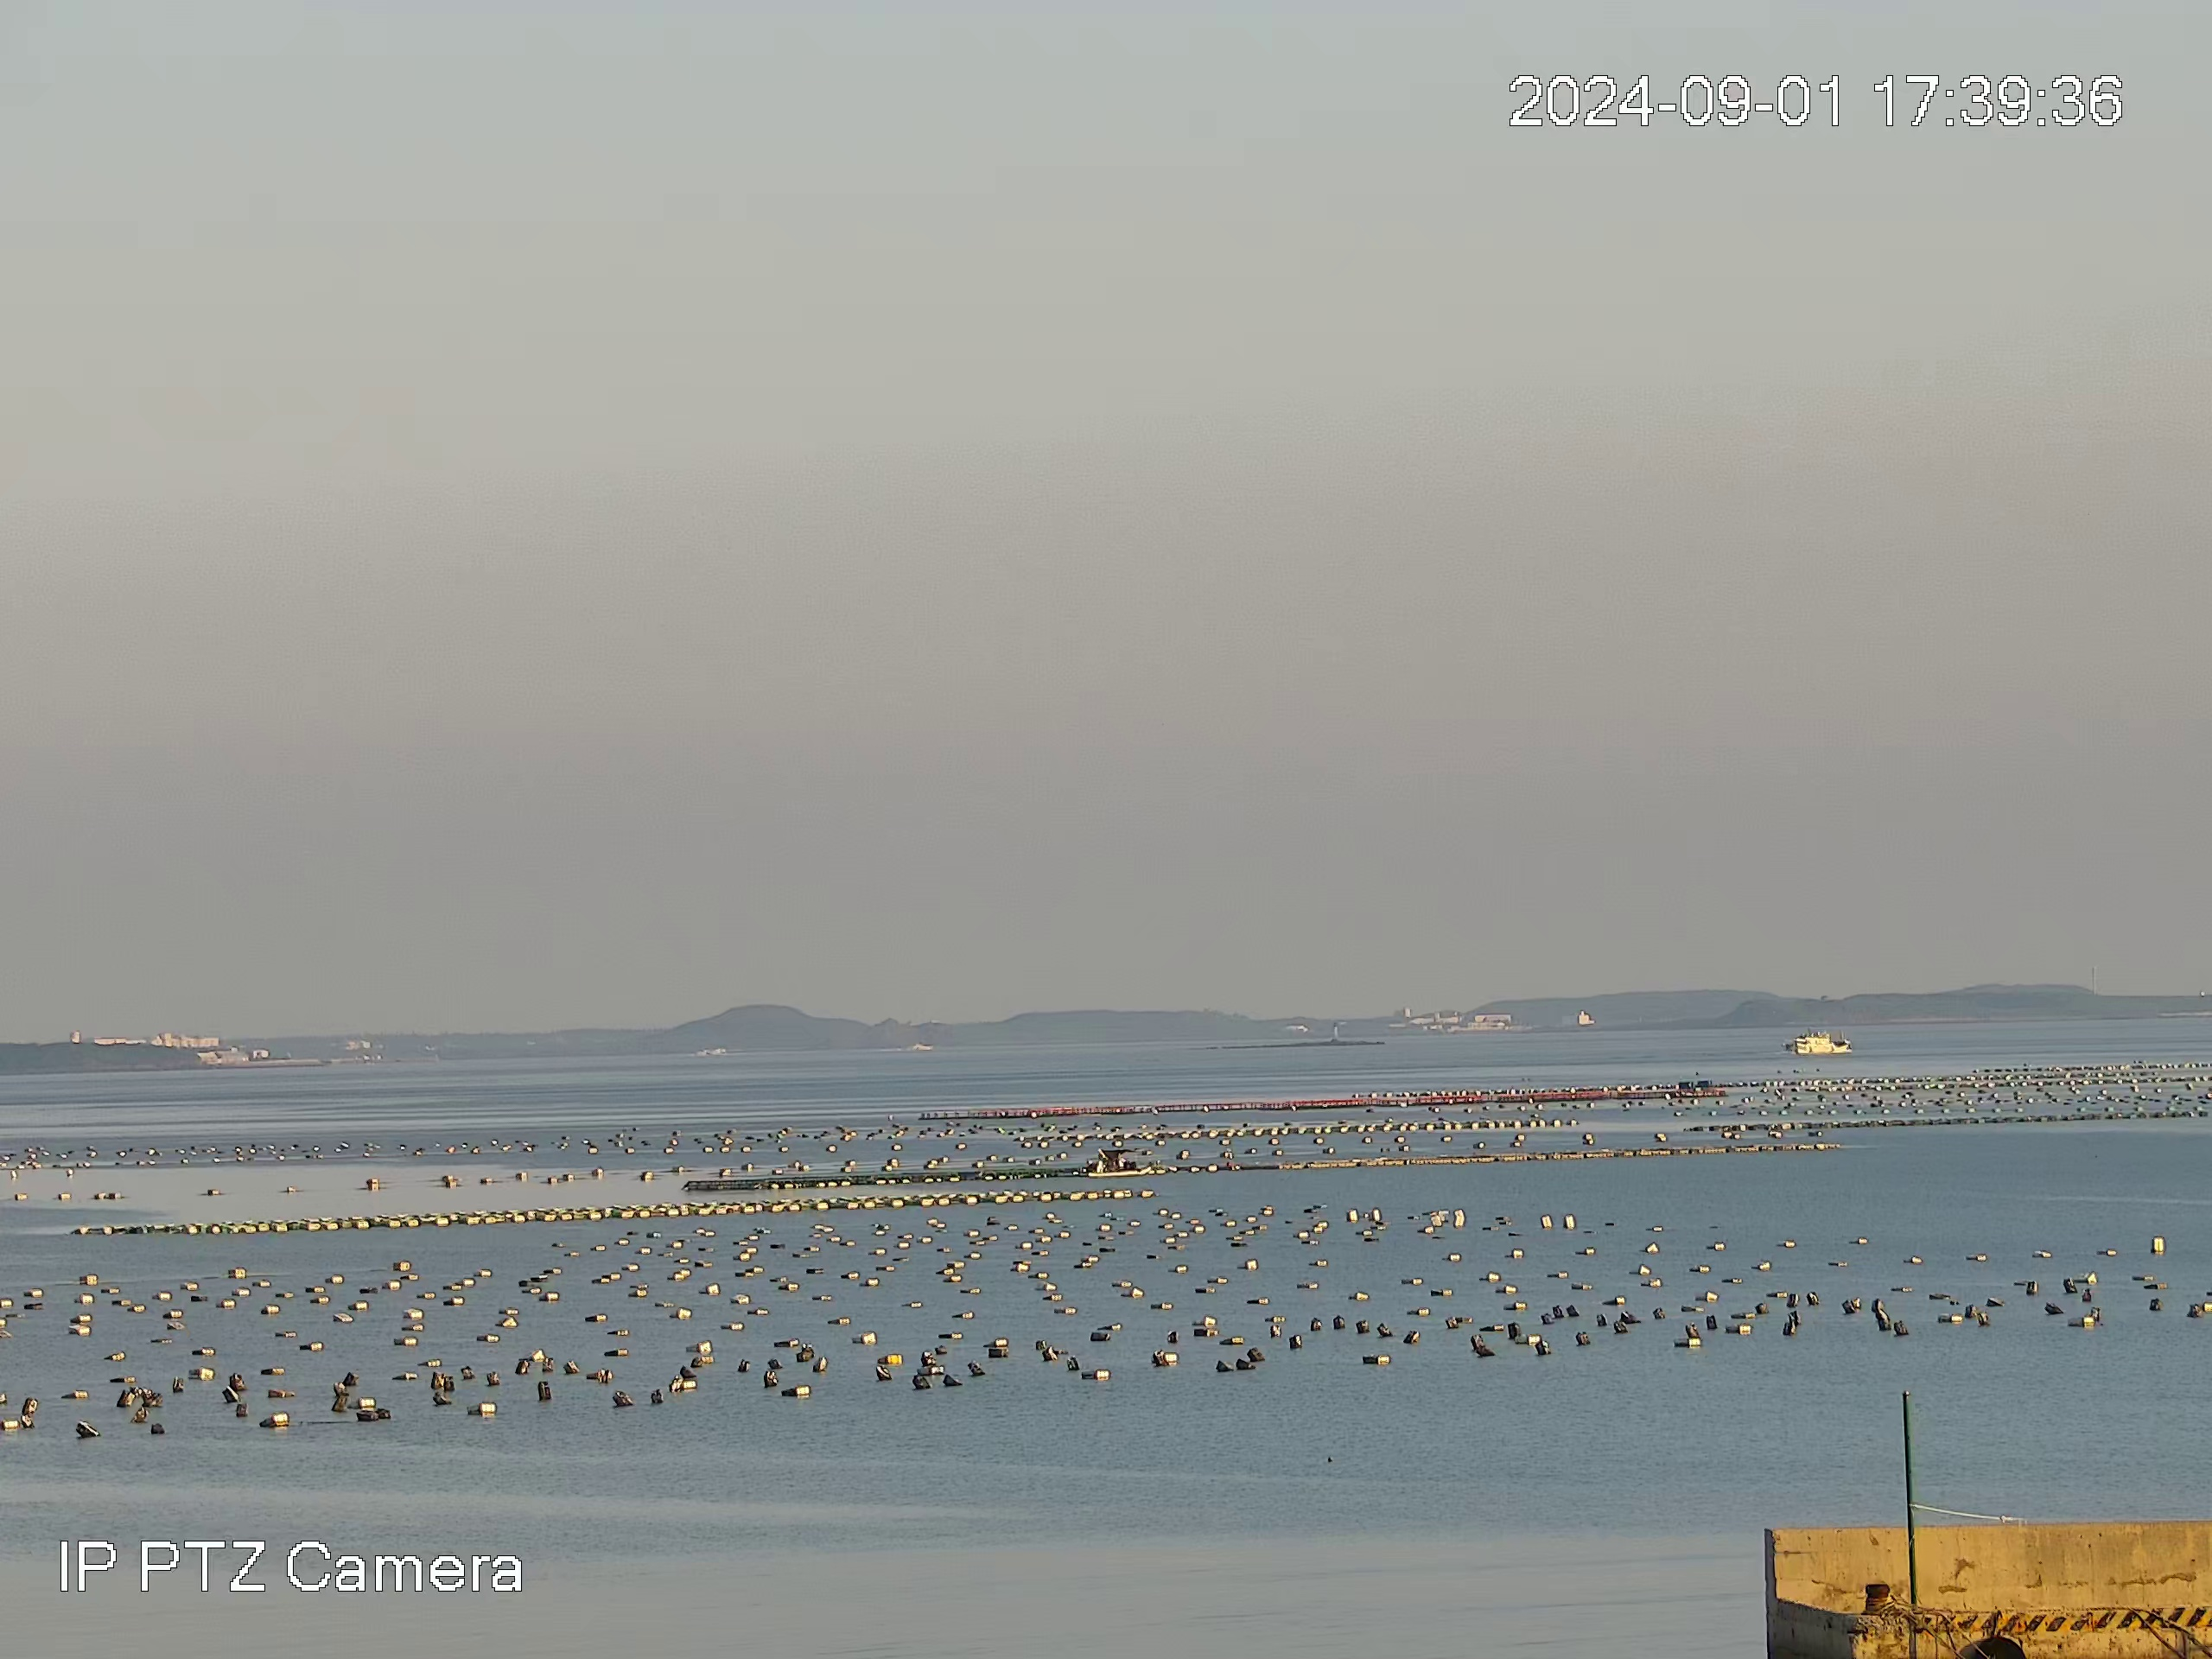boat: (1092, 1141, 1153, 1175), (1787, 1032, 1855, 1054)
